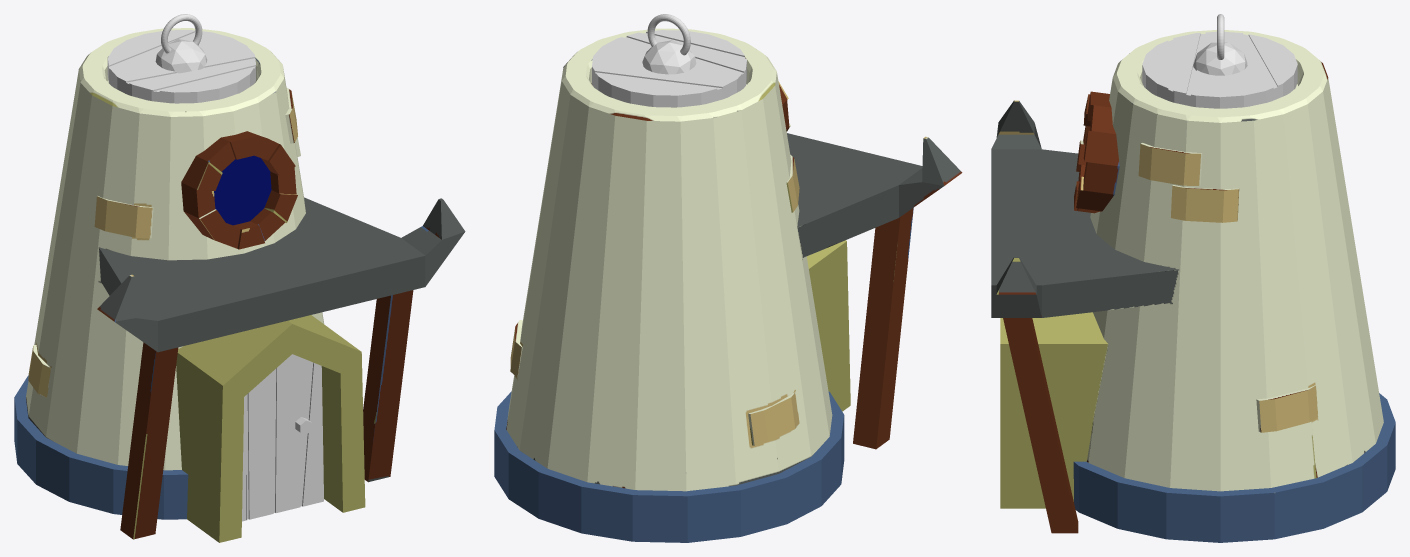
The model's file is House_210404.fbx.
3 views of the same model, side by side, from view 1: azimuth 30°, elevation 25°; view 2: azimuth 150°, elevation 25°; view 3: azimuth 270°, elevation 25° (orthographic). The views are drawn at different scales.
Parts seen in each view (by area): view 1: Main body, Door, Top, Icosphere; view 2: Main body, Top, Icosphere; view 3: Main body, Top, Icosphere.
Part boxes in pixels (x1,y1,x2,y2): Main body: (14, 28, 465, 542); Door: (242, 354, 323, 521); Top: (107, 30, 255, 103); Icosphere: (155, 14, 207, 73); Main body: (494, 28, 962, 542); Top: (592, 30, 746, 107); Icosphere: (642, 14, 696, 74); Main body: (991, 30, 1395, 542); Top: (1142, 31, 1297, 108); Icosphere: (1193, 14, 1247, 75).
Bounding box in the file's own units: 465 × 552 × 447.
